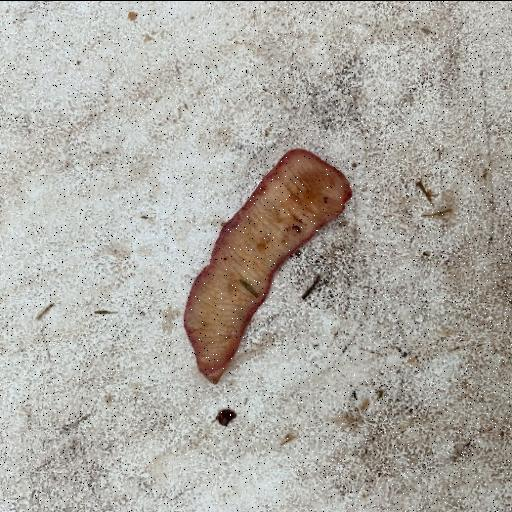Waste: (182, 147, 352, 385)
